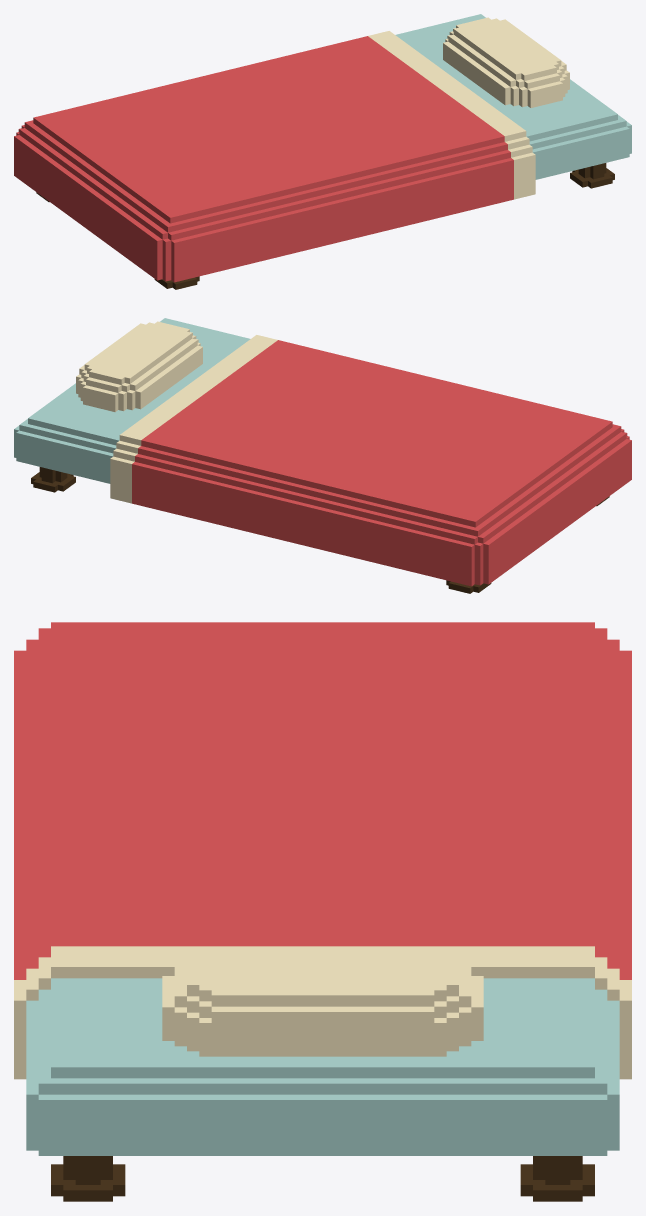
File: Bed.obj
3 views of the same model, one above another, from view 1: azimuth 30°, elevation 25°; view 2: azimuth 150°, elevation 25°; view 3: azimuth 270°, elevation 25° (orthographic). The views are drawn at different scales.
Parts seen in each view (by area): view 1: Bed; view 2: Bed; view 3: Bed.
Part boxes in pixels (x1,y1,x2,y2): Bed: [14, 14, 631, 289]; Bed: [14, 318, 631, 593]; Bed: [14, 622, 631, 1201].
Size of the model in its own units: 88 by 17 by 50.
1 material, 1 textured.
